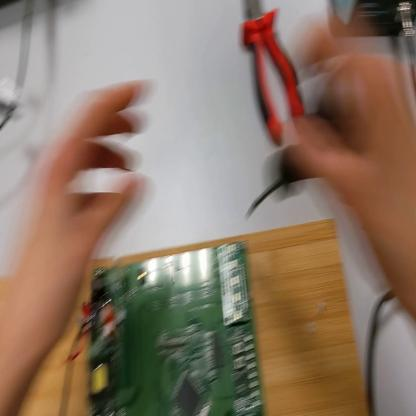hand: (9, 81, 148, 354), (276, 40, 416, 307)
low voltage board: (61, 245, 264, 416)
pliers: (240, 3, 307, 146)
screwdriver-: (246, 99, 368, 221)
welder station: (329, 3, 416, 37)
working area: (1, 223, 368, 415)
